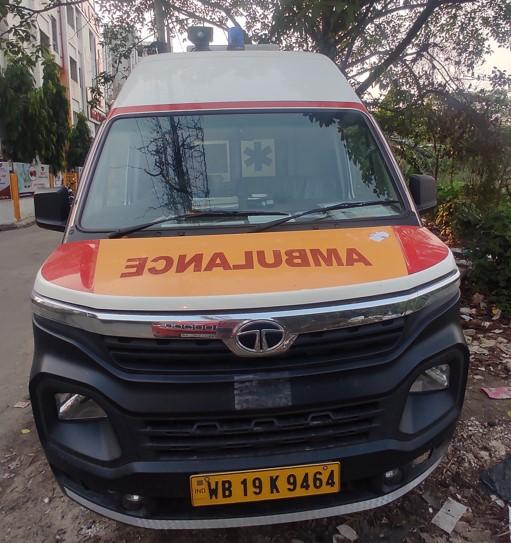ER: (33, 45, 466, 525)
